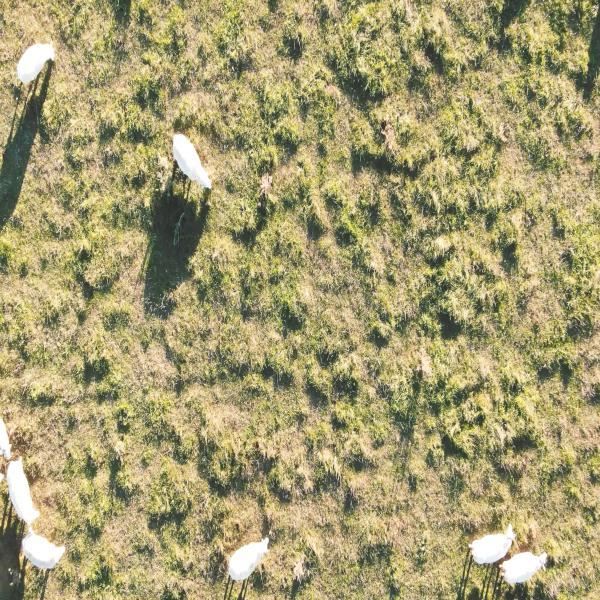sheep: (4, 452, 42, 527), (171, 129, 215, 193), (227, 529, 272, 584), (20, 525, 68, 575), (466, 521, 517, 568), (500, 548, 549, 588), (14, 40, 55, 86), (0, 394, 15, 462)
